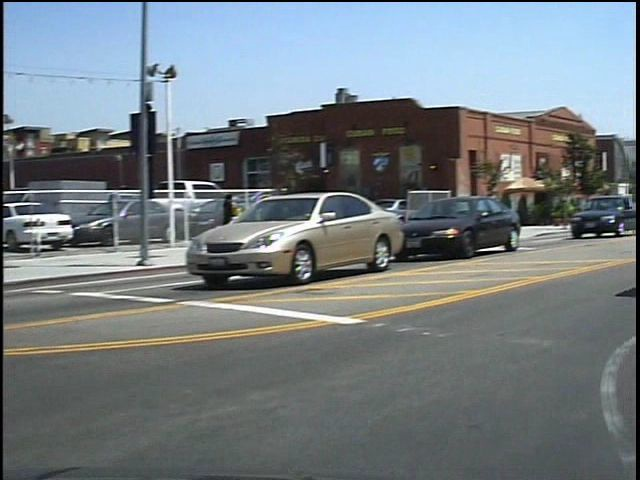person: (226, 182, 252, 245)
